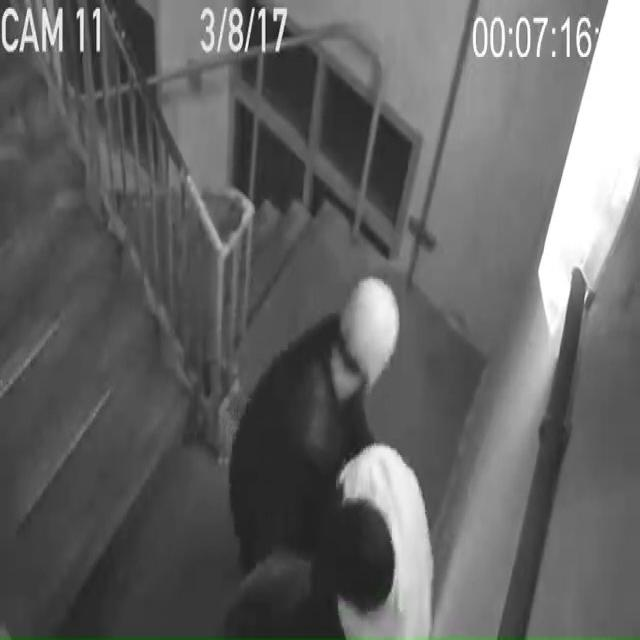fight: (177, 208, 494, 640)
